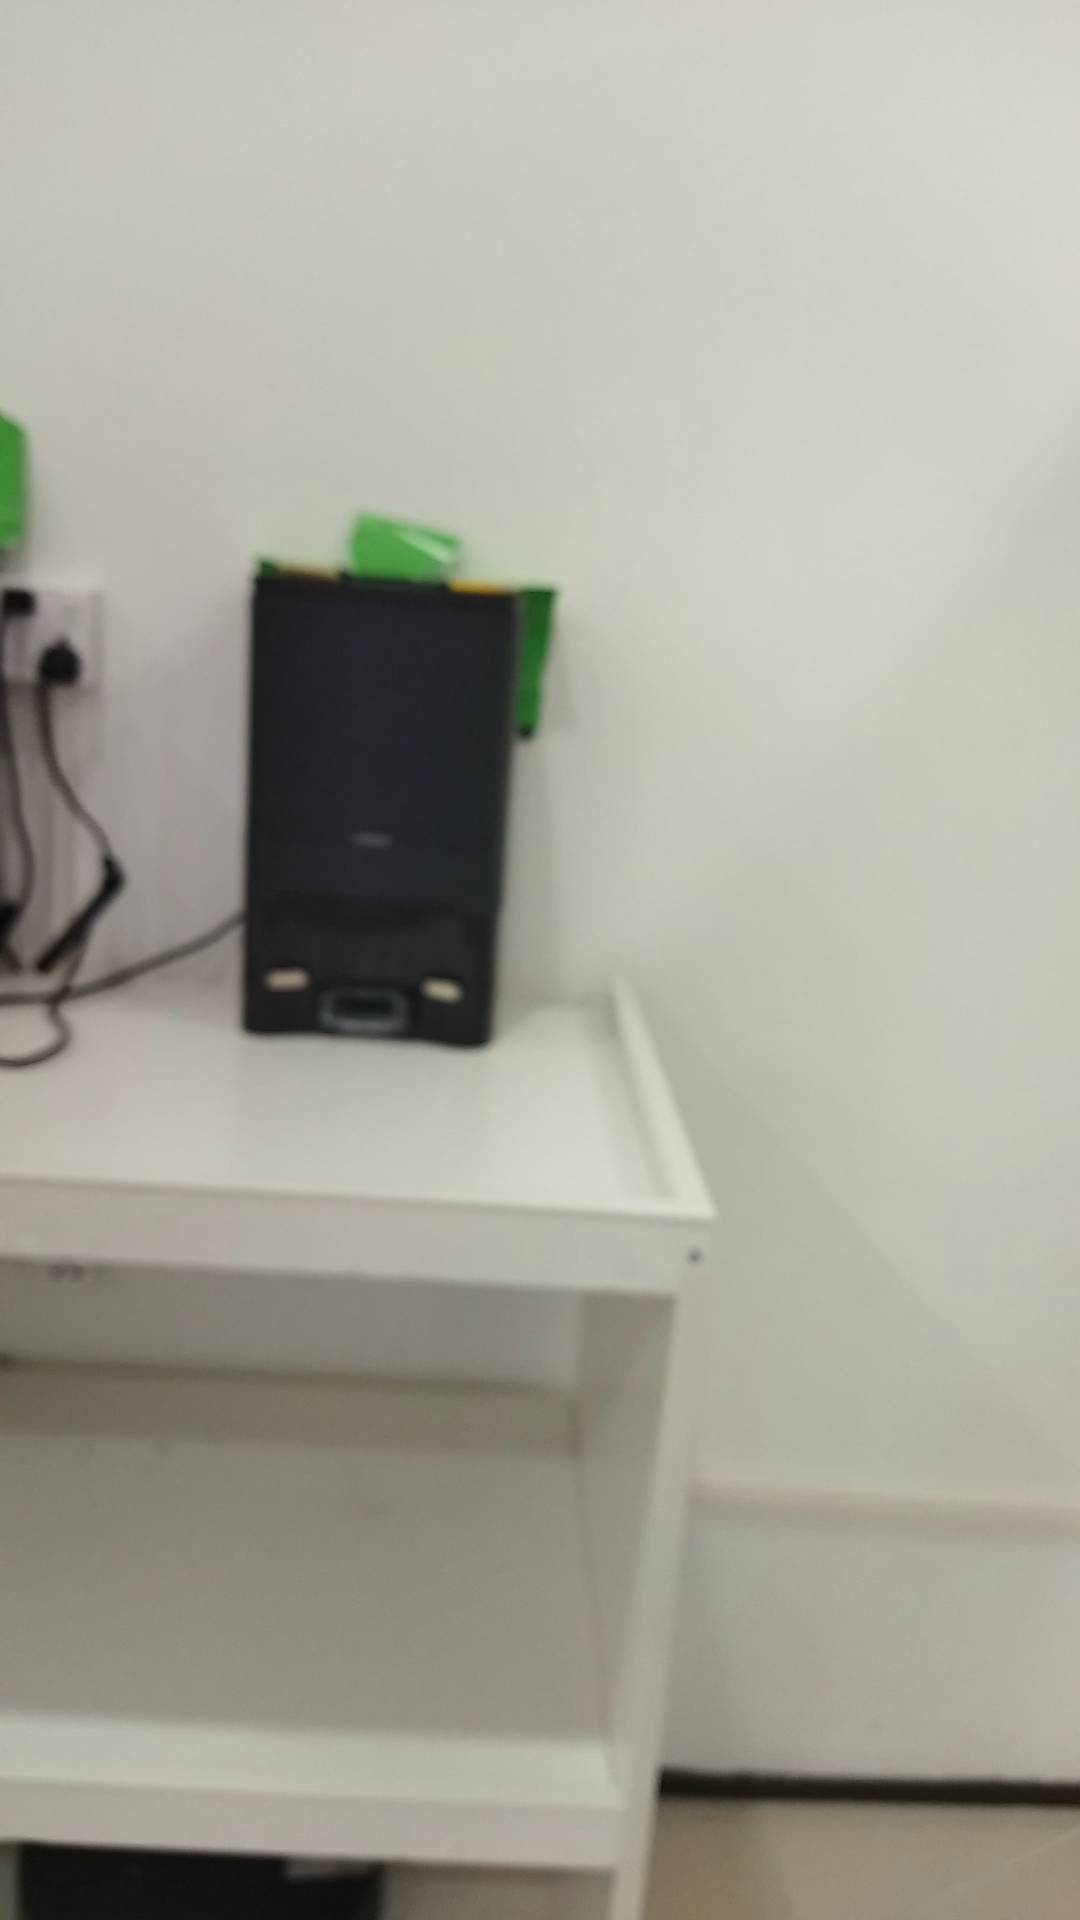dust collecting barrel: (237, 564, 520, 1044)
